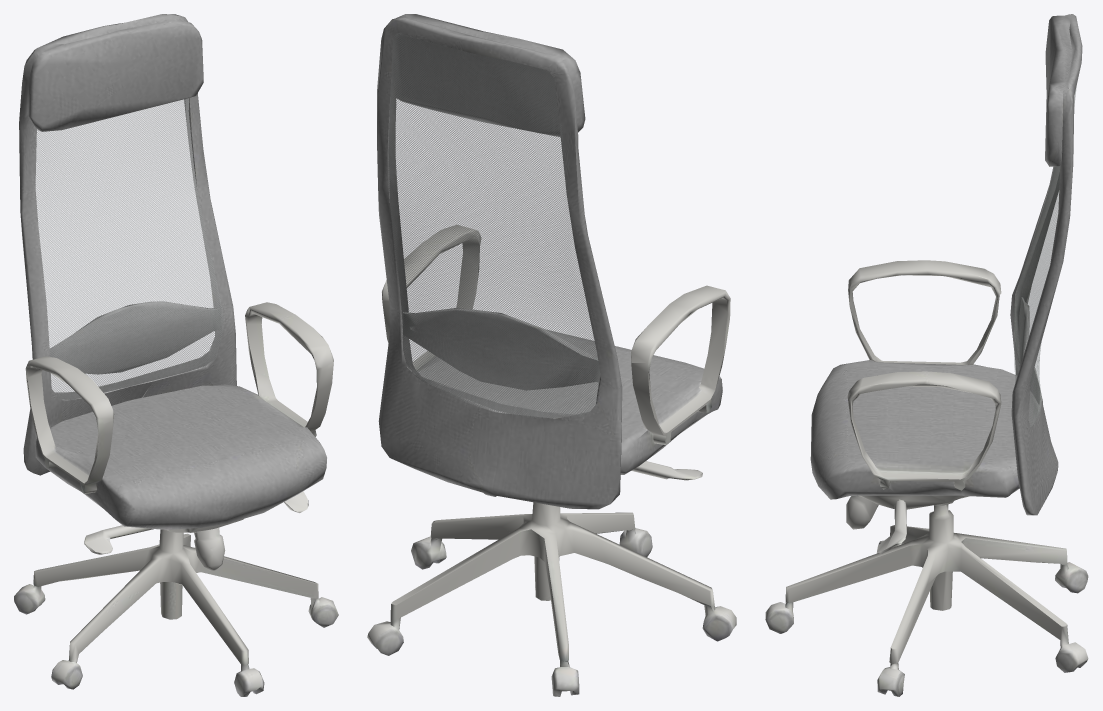
The model's file is 07 - MARKUS Office chair - Vissle light grey Medium.glb.
3 views of the same model, side by side, from view 1: azimuth 30°, elevation 25°; view 2: azimuth 150°, elevation 25°; view 3: azimuth 270°, elevation 25° (orthographic). The views are drawn at different scales.
Visible parts, largest first — view 1: model; view 2: model; view 3: model.
Part boxes in pixels (bbox=[...]): model: bbox=[14, 14, 338, 696]; model: bbox=[367, 14, 736, 696]; model: bbox=[765, 14, 1088, 696].
Bounding box in the file's own units: 0.6967 × 1.32 × 0.6627.
Materials: 2 (2 with a texture image).
